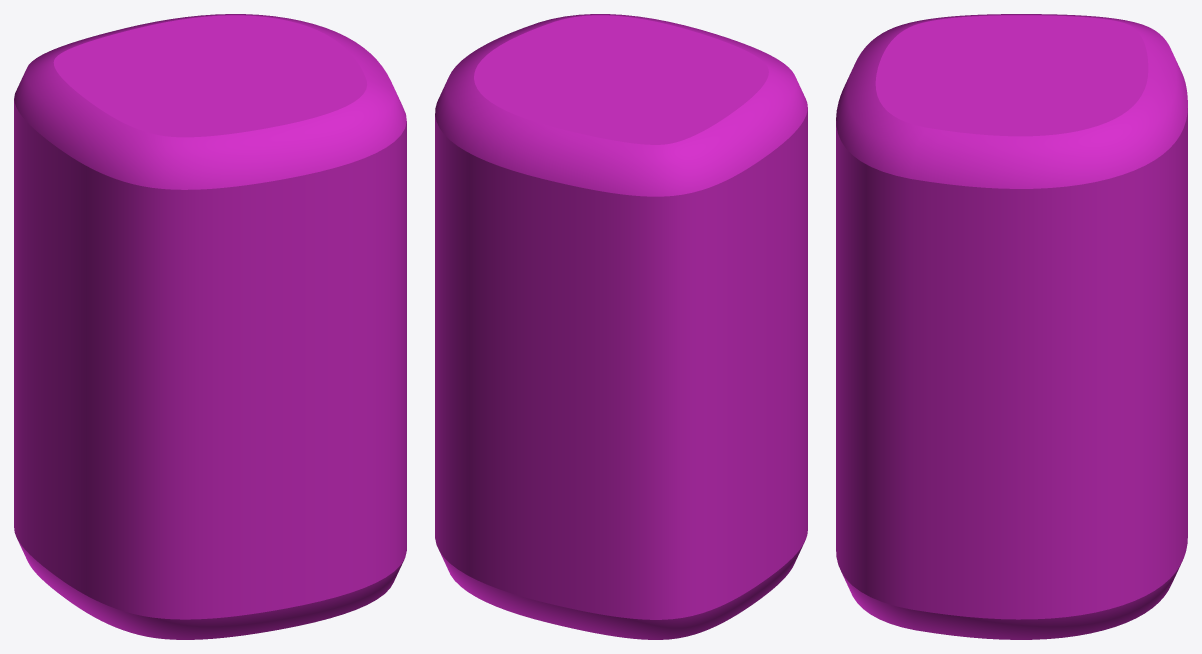
The model's file is Blocky_FullStop.fbx.
3 renders of one model, left to right at view 1: azimuth 30°, elevation 25°; view 2: azimuth 150°, elevation 25°; view 3: azimuth 270°, elevation 25°, orthographic.
Parts seen in each view (by area): view 1: BlockyFullStop; view 2: BlockyFullStop; view 3: BlockyFullStop.
Part boxes in pixels (x1=…): BlockyFullStop: x1=14, y1=14, x2=406, y2=639; BlockyFullStop: x1=435, y1=14, x2=807, y2=639; BlockyFullStop: x1=836, y1=14, x2=1187, y2=639.
Bounding box in the file's own units: 0.0924 × 0.14 × 0.0889.
